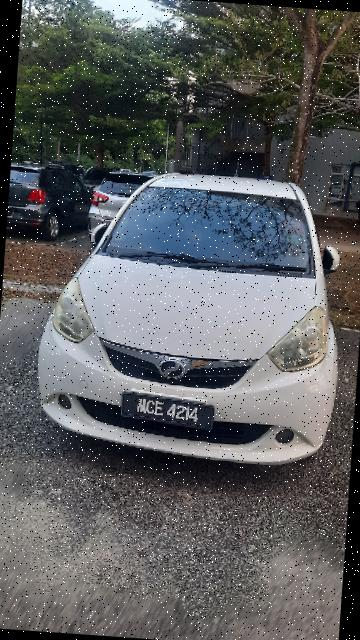License_Plate: (115, 388, 221, 436)
car: (30, 159, 359, 483)
